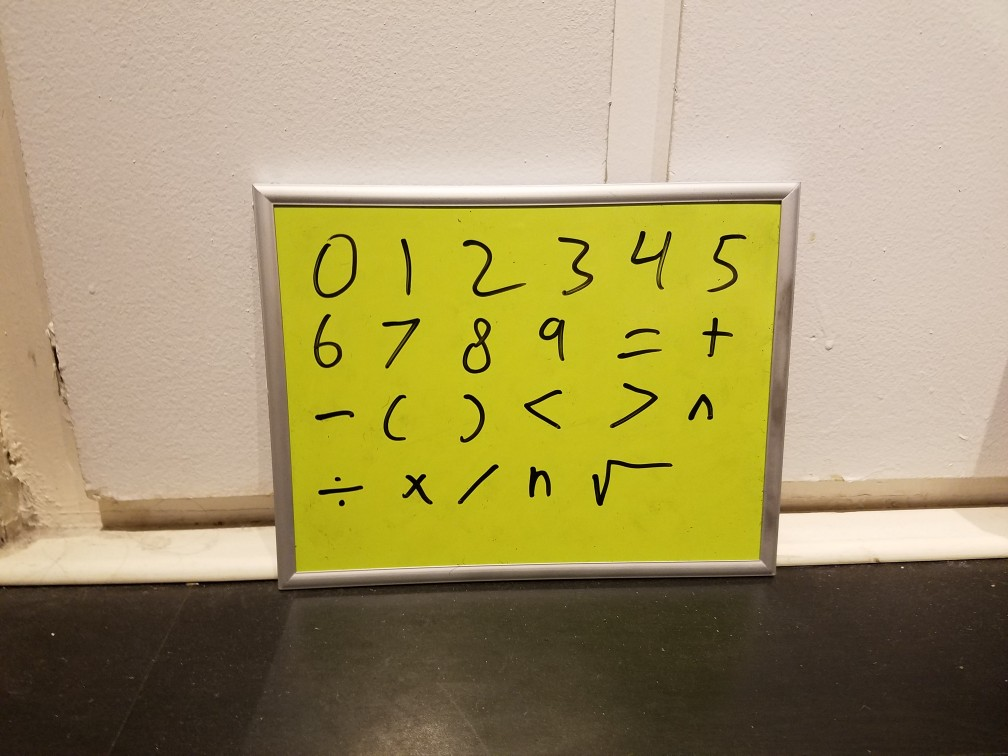(: (379, 389, 405, 451)
): (447, 389, 486, 452)
+: (692, 311, 734, 366)
-: (307, 398, 356, 428)
/: (454, 460, 503, 512)
0: (301, 217, 366, 310)
1: (388, 229, 422, 305)
2: (451, 224, 524, 300)
3: (551, 226, 595, 307)
4: (620, 218, 675, 309)
5: (699, 222, 755, 302)
6: (307, 311, 344, 379)
7: (379, 312, 421, 379)
8: (450, 309, 500, 383)
9: (529, 313, 573, 375)
<: (520, 385, 566, 439)
=: (609, 316, 670, 373)
>: (599, 377, 663, 434)
^: (681, 392, 716, 428)
div: (315, 462, 363, 513)
n: (522, 460, 557, 506)
sqrt: (579, 448, 681, 513)
x: (398, 466, 433, 510)
